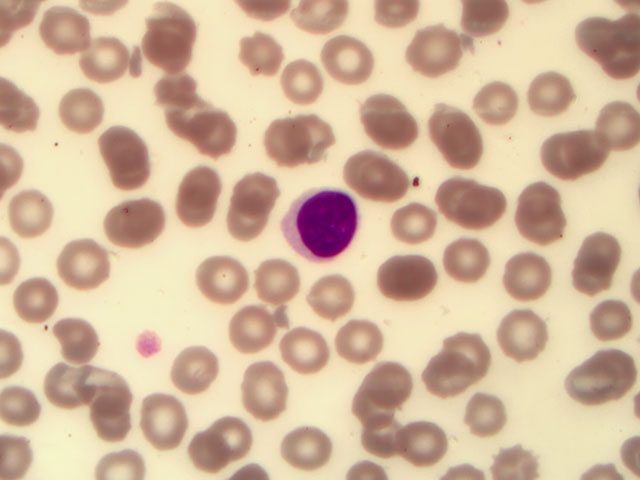Platelets: (134, 331, 161, 355)
RBC: (182, 427, 234, 480), (285, 427, 337, 480), (40, 7, 92, 59), (82, 36, 134, 88), (130, 29, 182, 81), (139, 2, 191, 54), (157, 63, 209, 115), (167, 93, 219, 145), (184, 108, 236, 160), (105, 121, 157, 173), (106, 150, 158, 202), (56, 89, 108, 141), (12, 188, 64, 240), (48, 234, 100, 286), (107, 204, 159, 256), (8, 265, 60, 317), (49, 307, 101, 359), (37, 351, 89, 403), (86, 372, 138, 424), (80, 405, 132, 457), (140, 403, 192, 455), (164, 348, 216, 400), (228, 305, 280, 357), (196, 256, 248, 308), (240, 253, 292, 305), (225, 188, 277, 240), (239, 158, 291, 210), (182, 168, 234, 220), (253, 119, 305, 171), (291, 110, 343, 162), (278, 49, 330, 101), (246, 26, 298, 78), (318, 23, 370, 75), (365, 90, 417, 142), (347, 145, 399, 197), (394, 190, 446, 242), (384, 257, 436, 309), (310, 269, 362, 321), (339, 319, 391, 371), (268, 322, 320, 374), (236, 367, 288, 419), (202, 414, 254, 466), (350, 403, 402, 455), (351, 370, 403, 422), (366, 360, 418, 412), (425, 355, 477, 407), (447, 330, 499, 382), (499, 298, 551, 350), (500, 248, 552, 300), (454, 236, 506, 288), (450, 194, 502, 246), (440, 162, 492, 214), (437, 105, 489, 157), (463, 71, 515, 123), (424, 33, 476, 85), (525, 69, 577, 121), (565, 126, 617, 178), (534, 128, 586, 180), (585, 97, 637, 149), (517, 176, 569, 228), (574, 224, 626, 276), (567, 257, 619, 309), (588, 321, 640, 373), (588, 294, 640, 346), (575, 352, 627, 404), (397, 418, 449, 470), (455, 387, 507, 439)
WBC: (281, 189, 361, 263)
